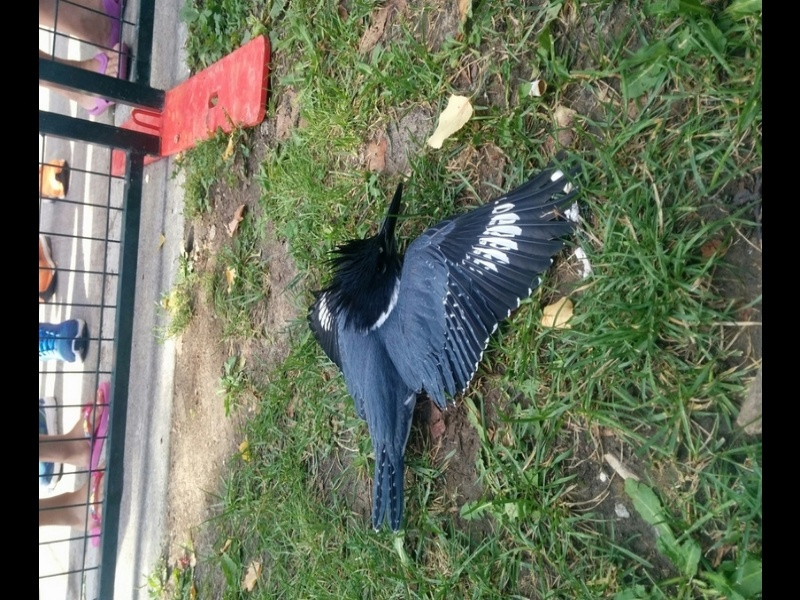kingfisher: (296, 161, 581, 541)
